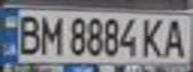4: (118, 15, 142, 57)
8: (63, 14, 87, 56), (84, 15, 106, 56), (103, 15, 124, 57)
A: (160, 16, 190, 60)
B: (12, 11, 45, 55)
K: (139, 16, 169, 58)
M: (36, 12, 66, 55)
